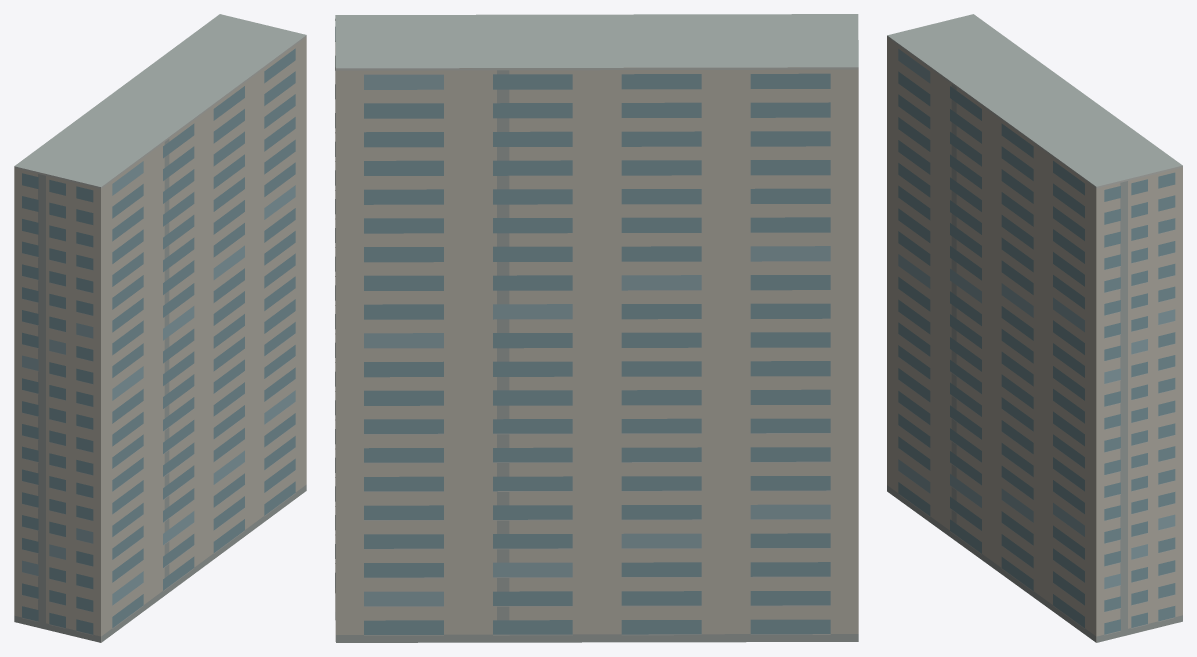
File: residential-47368771-83ce-45c2-8859-06254ea4c564.glb
3 views of the same model, side by side, from view 1: azimuth 30°, elevation 25°; view 2: azimuth 150°, elevation 25°; view 3: azimuth 270°, elevation 25° (orthographic). The views are drawn at different scales.
Parts seen in each view (by area): view 1: residential-47368771-83ce-45c2-8859-06254ea4c564.tmp; view 2: residential-47368771-83ce-45c2-8859-06254ea4c564.tmp; view 3: residential-47368771-83ce-45c2-8859-06254ea4c564.tmp.
Part boxes in pixels (x1=…): residential-47368771-83ce-45c2-8859-06254ea4c564.tmp: x1=14, y1=14, x2=306, y2=642; residential-47368771-83ce-45c2-8859-06254ea4c564.tmp: x1=335, y1=14, x2=858, y2=642; residential-47368771-83ce-45c2-8859-06254ea4c564.tmp: x1=887, y1=14, x2=1182, y2=642.
Bounding box in the file's own units: 49.59 × 61 × 35.87.
